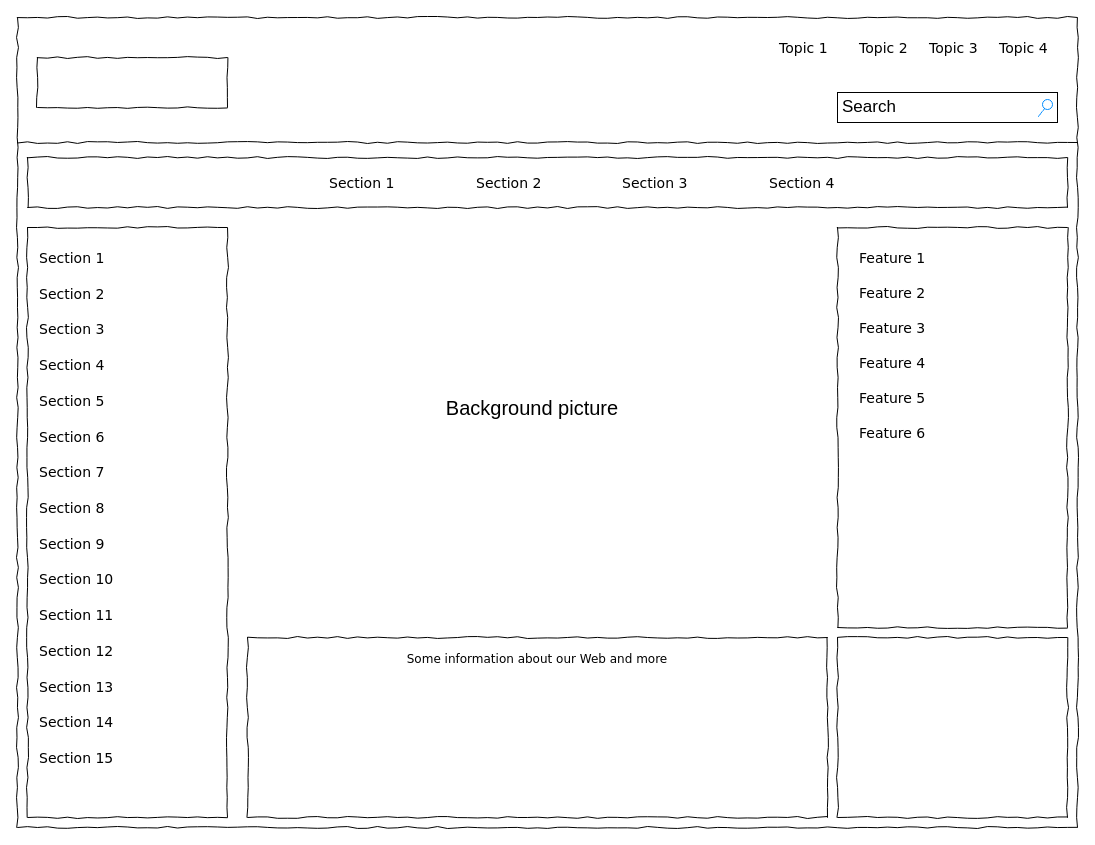
The diagram is 1095 pixels wide and 845 high, and some of its shapes have lost their labels. The shapes that lost their labels are listed below. From the top down, each one's box as (x1, y1, x2, y2) in pixels, then its label:
(36, 56, 228, 108): Sports
(836, 636, 1068, 818): Link to game with picture
